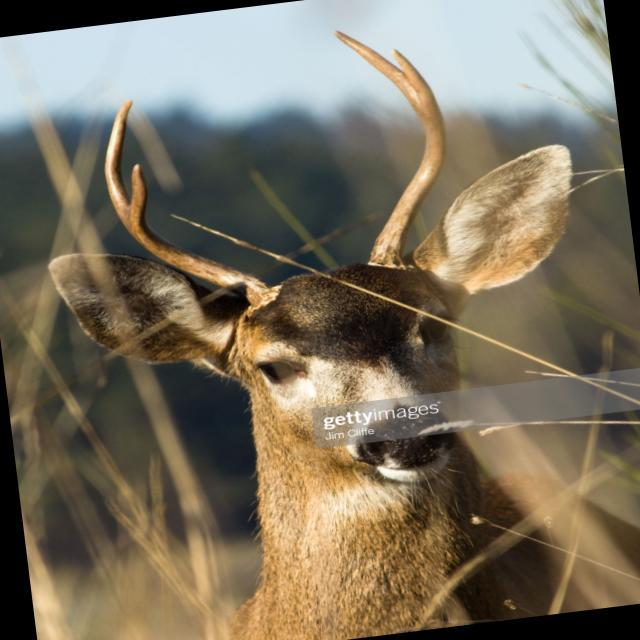R-F: (105, 98, 277, 308)
R-G1: (129, 163, 148, 219)
